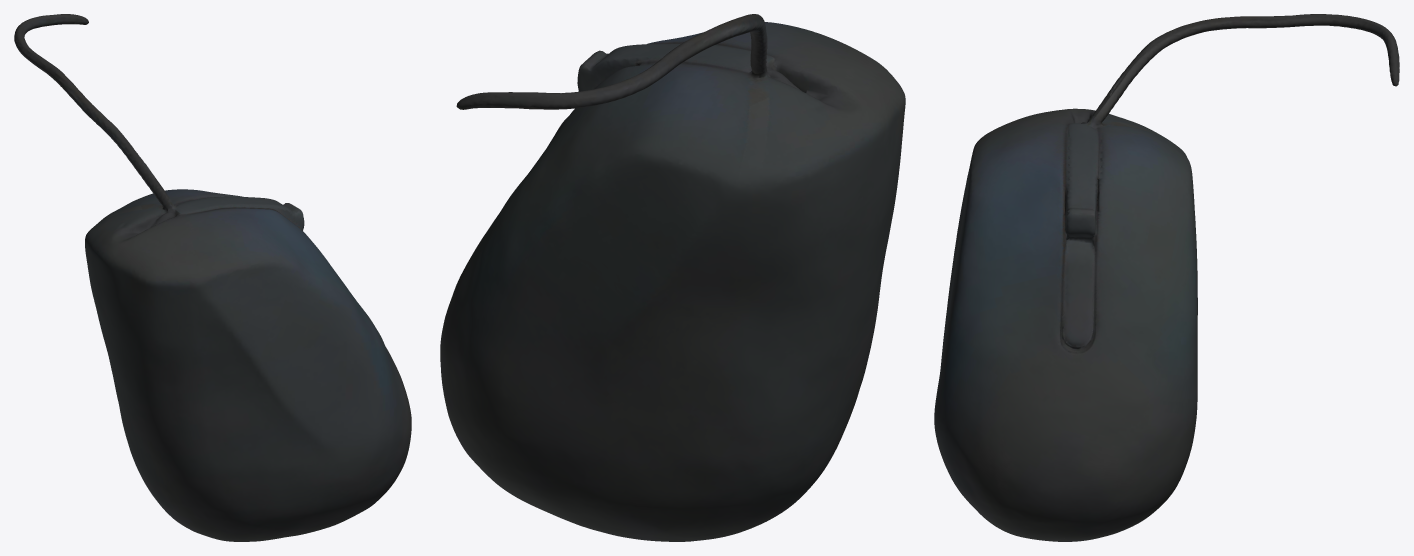
The model's file is 6fe60536-0cdc-470b-ac5e-132a3ef8a5de_pbr.glb.
3 renders of one model, left to right at view 1: azimuth 30°, elevation 25°; view 2: azimuth 150°, elevation 25°; view 3: azimuth 270°, elevation 25°, orthographic. The views are drawn at different scales.
Parts seen in each view (by area): view 1: tripo_node_6fe60536-0cdc-470b-ac5e-132a3ef8a5de; view 2: tripo_node_6fe60536-0cdc-470b-ac5e-132a3ef8a5de; view 3: tripo_node_6fe60536-0cdc-470b-ac5e-132a3ef8a5de.
Boxes of the visible parts, x1,y1,x2,y2 form: tripo_node_6fe60536-0cdc-470b-ac5e-132a3ef8a5de: (14, 14, 411, 541); tripo_node_6fe60536-0cdc-470b-ac5e-132a3ef8a5de: (440, 14, 905, 541); tripo_node_6fe60536-0cdc-470b-ac5e-132a3ef8a5de: (934, 14, 1399, 541).
Bounding box in the file's own units: 0.6995 × 1 × 0.9437.
1 material, 1 textured.
